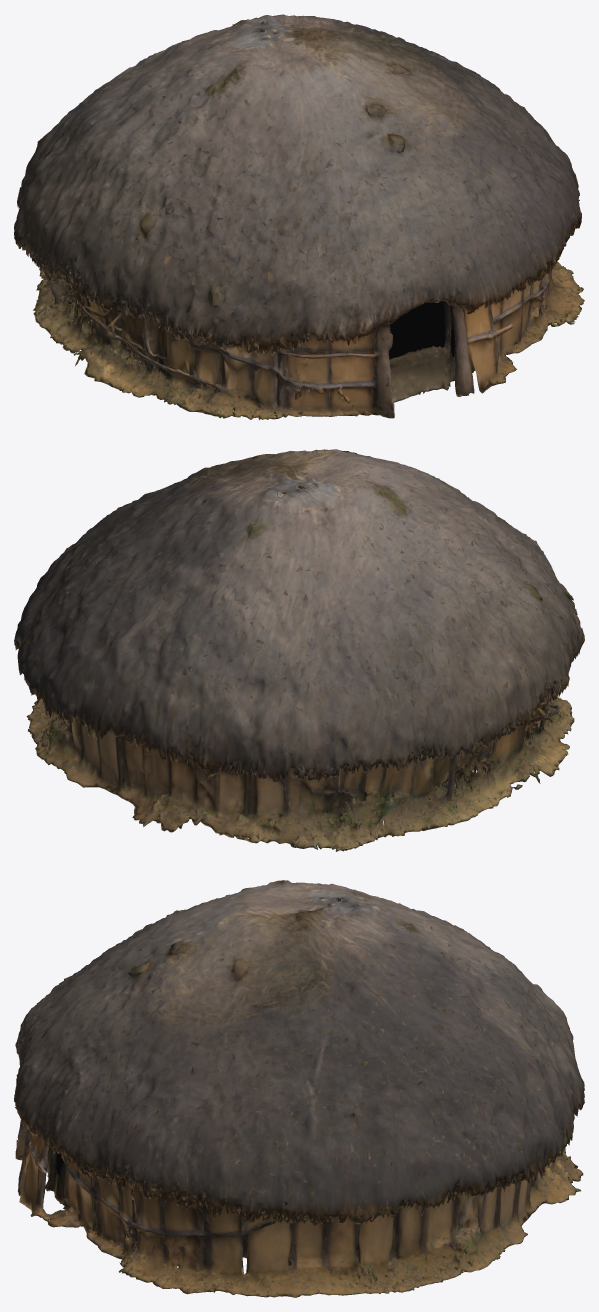
File: rumahadatpapua.glb
3 renders of one model, top to bottom at view 1: azimuth 30°, elevation 25°; view 2: azimuth 150°, elevation 25°; view 3: azimuth 270°, elevation 25°, orthographic. The views are drawn at different scales.
Visible parts, largest first — view 1: Mesh_0, Cube; view 2: Mesh_0; view 3: Mesh_0.
Part boxes in pixels (x1,y1,x2,y2): Mesh_0: (14,14,584,420); Cube: (389,301,455,359); Mesh_0: (14,449,584,851); Mesh_0: (14,880,584,1297).
Size of the model in its own units: 6.3 by 3.33 by 6.2.
2 materials, 1 textured.
